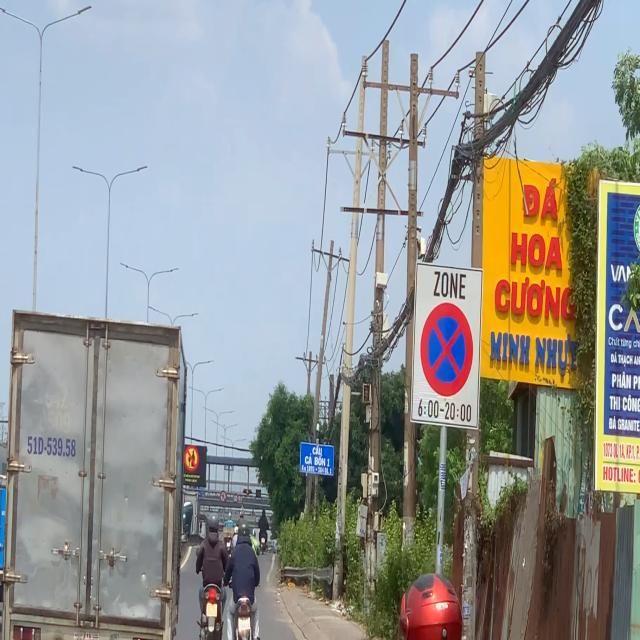Cam dung va do: (421, 302, 474, 396)
